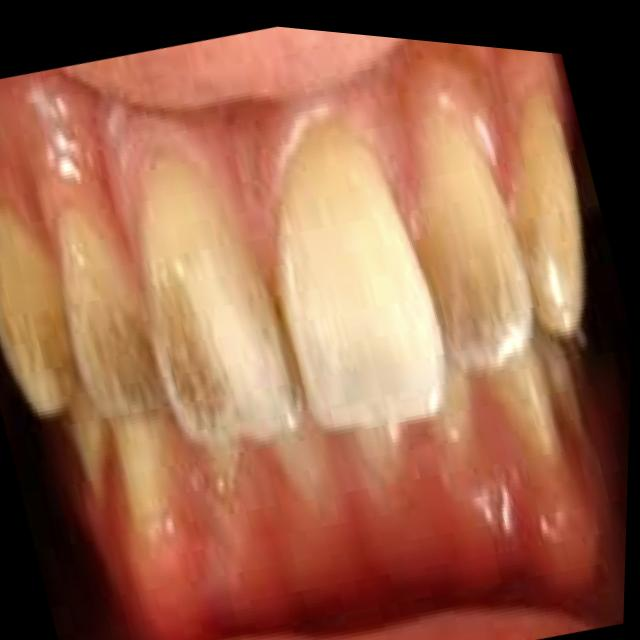tooth-discoloration: (277, 118, 443, 425), (137, 155, 297, 442), (417, 113, 530, 363), (58, 210, 163, 414), (514, 95, 583, 335), (0, 206, 74, 414)
